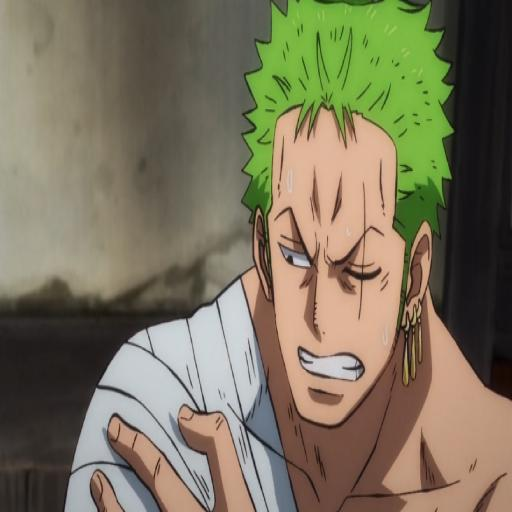Zoro: (81, 3, 512, 512)
